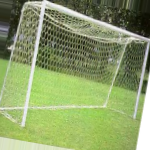goals: (2, 1, 150, 127)
